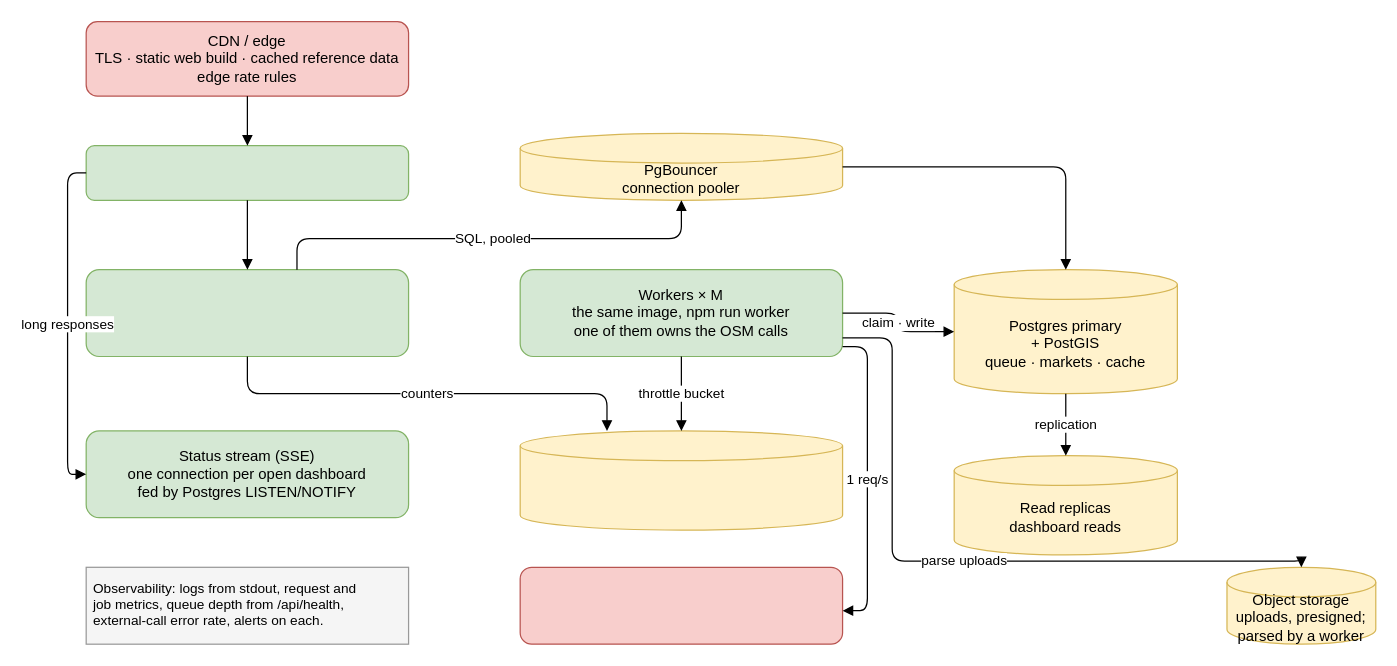
Some shapes in this 1397 by 666 pixel diagram are drawn without their labels. Here are the shapes that lost their labels. From the top down, the box of each, then its label:
(85, 144, 409, 200): Load balancer
(85, 268, 409, 356): API × N (stateless) JOBS=off · TRUST_PROXY=1 rate limit counted in Redis
(519, 430, 843, 530): Redis rate-limit counters shared outbound bucket
(519, 566, 843, 644): Geo data self-hosted Overpass + Nominatim, or Google with a budget
